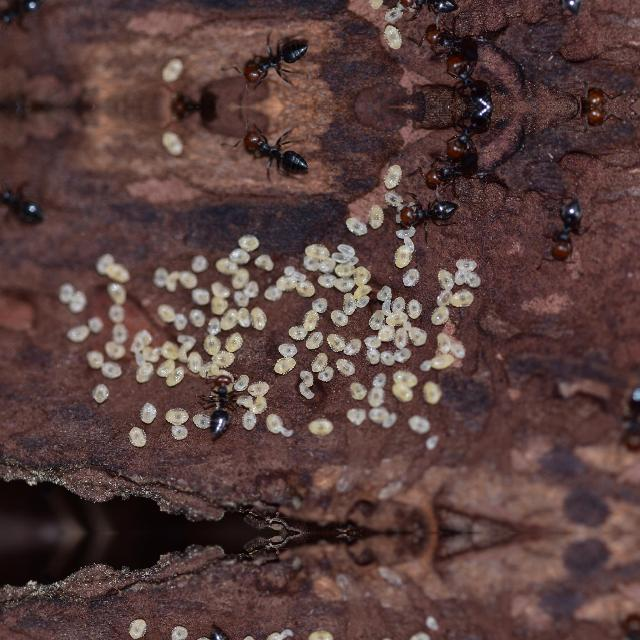Crematogaster: (238, 119, 312, 173), (238, 39, 312, 93), (196, 365, 238, 447), (438, 57, 508, 106), (438, 106, 508, 154), (541, 192, 587, 258), (392, 187, 456, 230), (0, 178, 46, 230), (432, 154, 494, 190), (432, 22, 494, 58), (610, 379, 640, 447), (392, 0, 456, 25), (0, 0, 46, 33), (541, 0, 587, 20), (196, 618, 237, 640), (610, 618, 639, 640)
